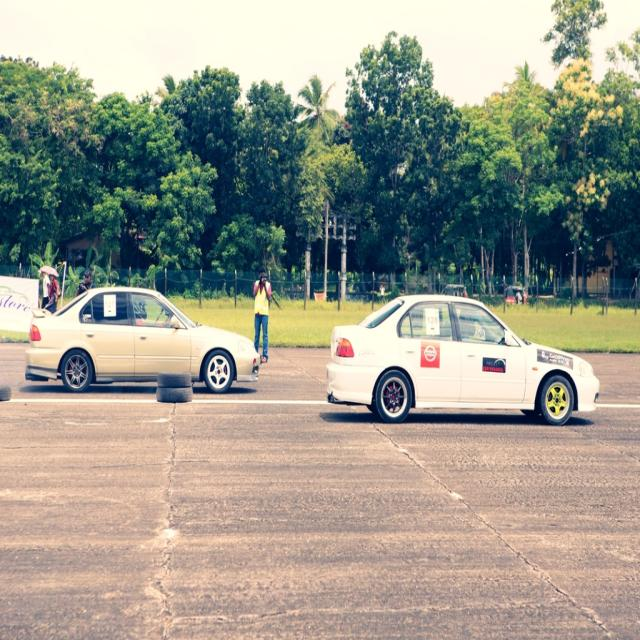car: (309, 287, 597, 430), (20, 280, 266, 412)
